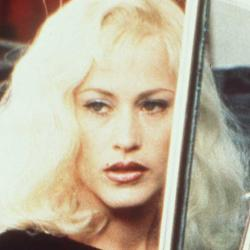face: (2, 2, 246, 230)
